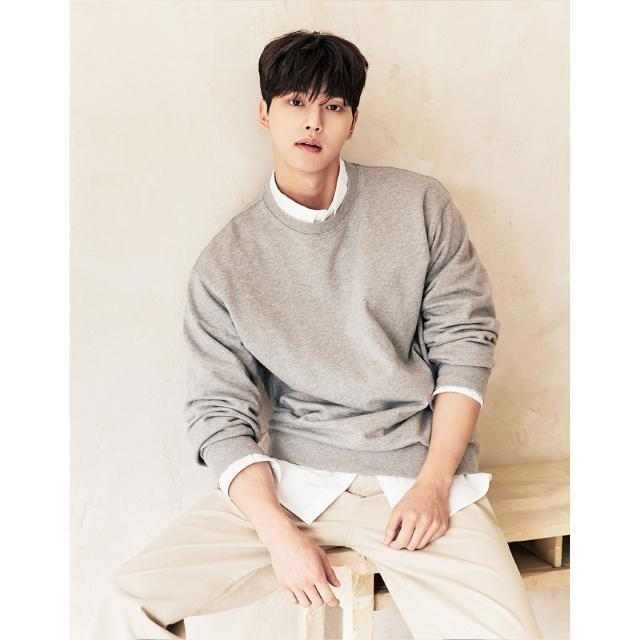long sleeve shirt: (212, 155, 493, 529)
sweater: (183, 163, 502, 491)
trousers: (89, 469, 551, 640)
